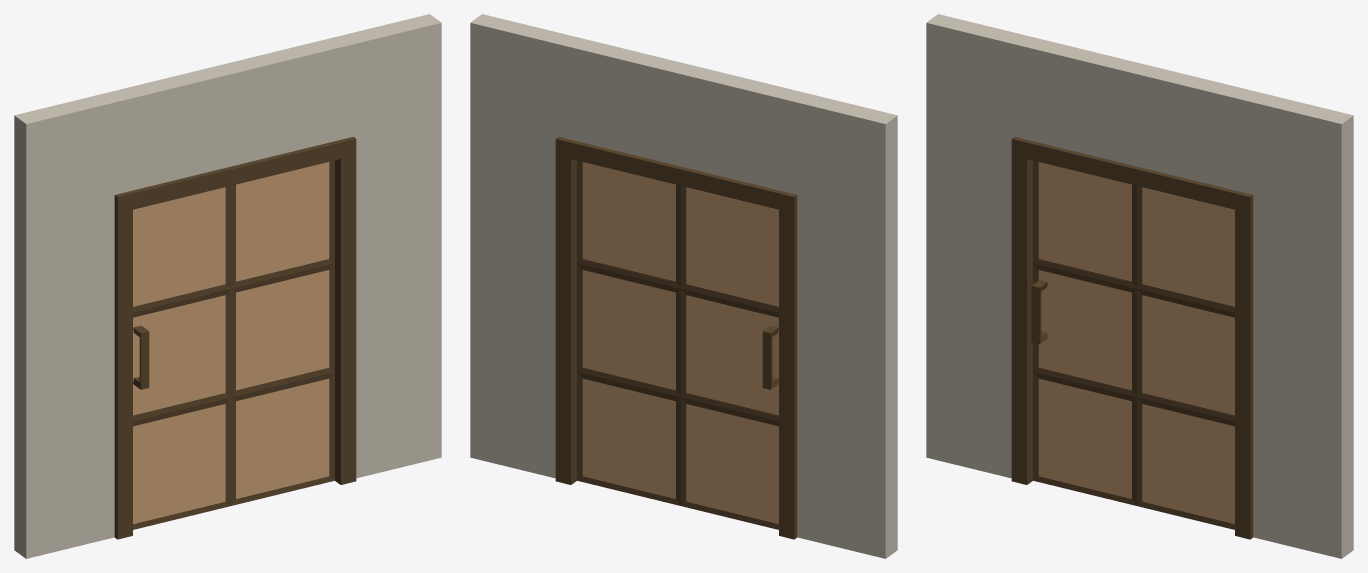
Rendered from Doorway.fbx.
3 renders of one model, left to right at view 1: azimuth 30°, elevation 25°; view 2: azimuth 150°, elevation 25°; view 3: azimuth 330°, elevation 25°, orthographic.
Visible parts, largest first — view 1: Doorway, Door; view 2: Doorway, Door; view 3: Doorway, Door.
Part boxes in pixels (<box>): Doorway: <box>14,14,441,558</box>; Door: <box>133,160,334,529</box>; Doorway: <box>470,14,897,558</box>; Door: <box>577,160,778,529</box>; Doorway: <box>926,14,1353,558</box>; Door: <box>1031,160,1234,529</box>.
Bounding box in the file's own units: 2000 × 2000 × 180.
